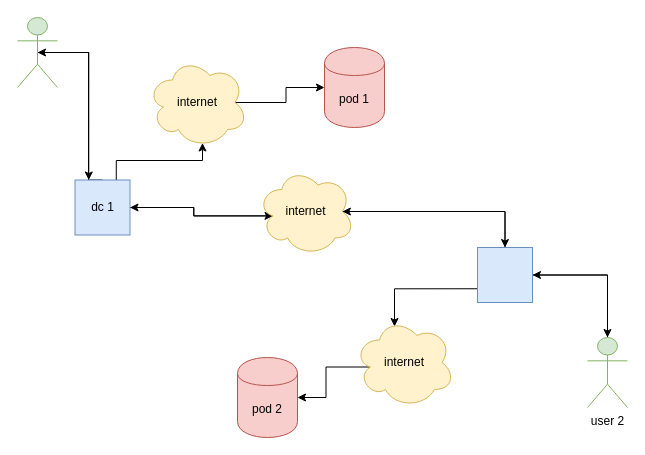
The diagram is 645 pixels wide and 455 high, and some of its shapes have lost their labels. Each missing label, with the centre of its shape:
dc 2: the point at 504,274
user 1: the point at 37,52
